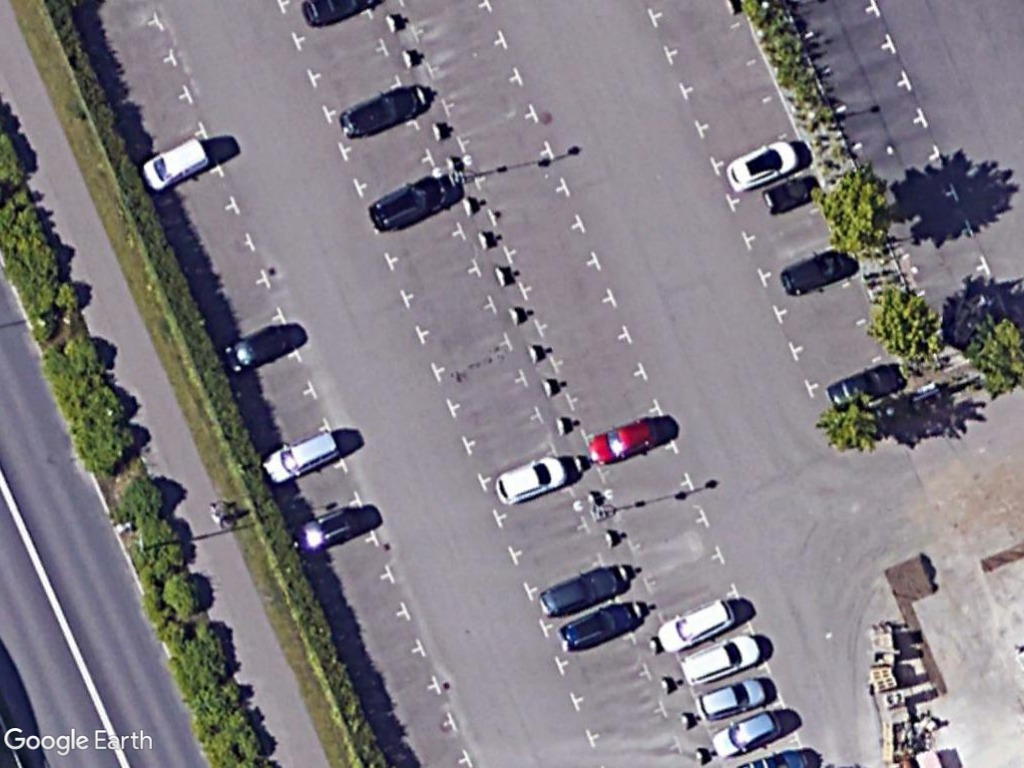car: (363, 168, 451, 236), (334, 81, 425, 145), (653, 592, 737, 659), (261, 423, 342, 488), (532, 562, 622, 620), (582, 409, 665, 468), (673, 631, 762, 686), (723, 136, 804, 196), (557, 598, 638, 655), (708, 705, 787, 763), (490, 451, 568, 509), (776, 247, 857, 302), (692, 670, 773, 721)
van: (134, 131, 213, 195)
